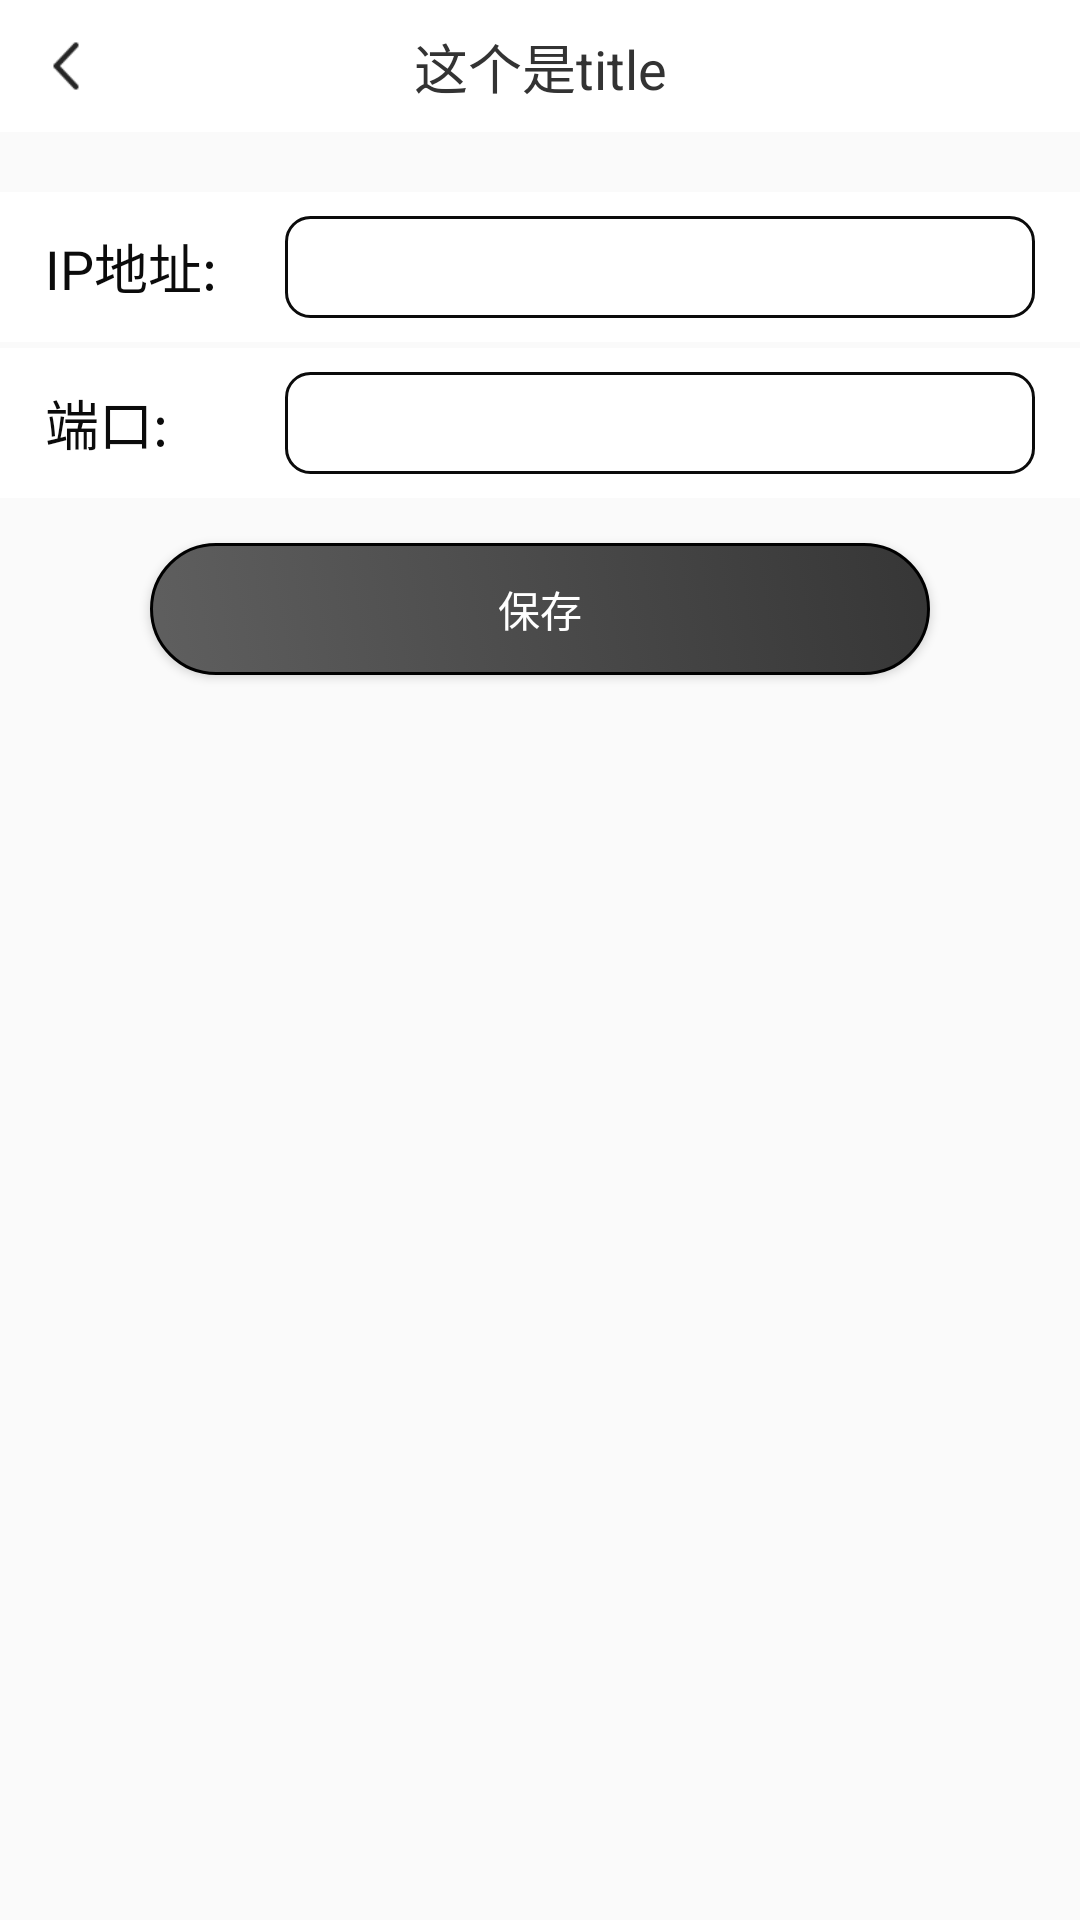

Screen size 1080w x 1920h. Icon name, then its center in pixels as point (x, y):
back: point (66, 66)
